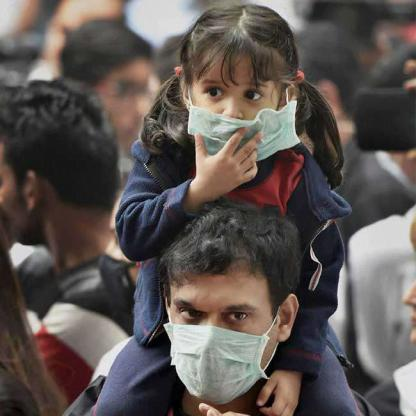Wearing_Mask: (169, 297, 272, 402), (192, 76, 282, 161)
